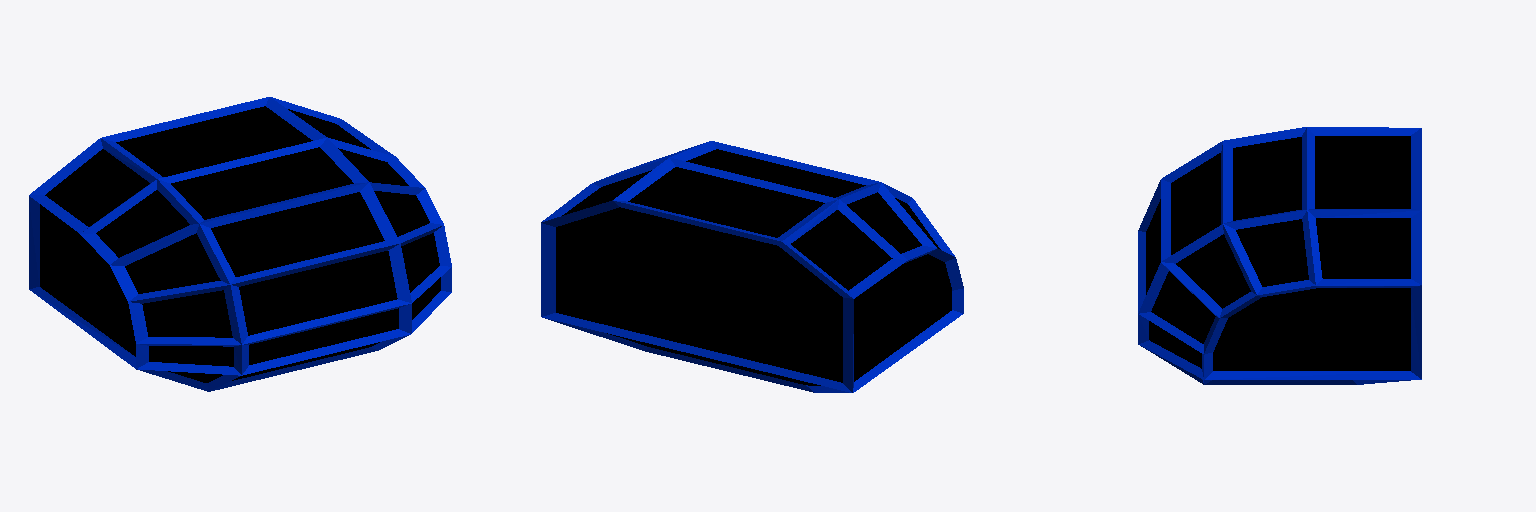
The model's file is boss_01_turret_body.obj.
3 renders of one model, left to right at view 1: azimuth 30°, elevation 25°; view 2: azimuth 150°, elevation 25°; view 3: azimuth 270°, elevation 25°, orthographic.
Visible parts, largest first — view 1: Cube.007; view 2: Cube.007; view 3: Cube.007.
Boxes of the visible parts, <box> form: Cube.007: <box>29,97,451,391</box>; Cube.007: <box>541,141,963,392</box>; Cube.007: <box>1138,127,1421,384</box>.
Bounding box in the file's own units: 6.36 × 3.38 × 4.95.